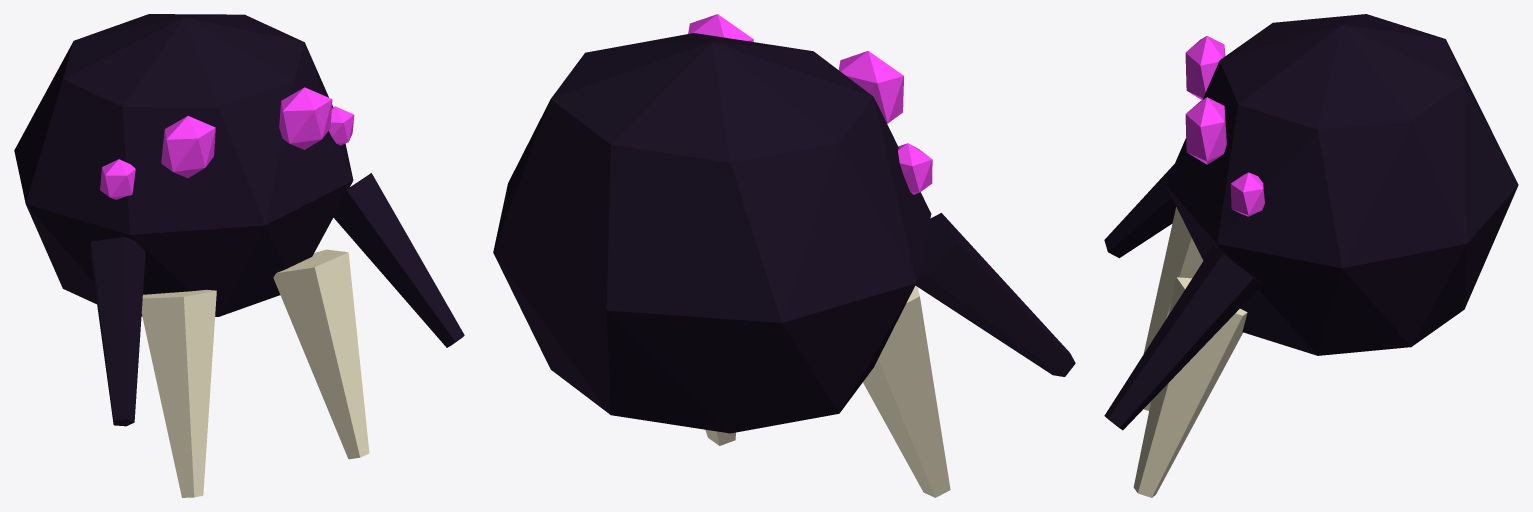
File: spider_4_head.glb
3 views of the same model, side by side, from view 1: azimuth 30°, elevation 25°; view 2: azimuth 150°, elevation 25°; view 3: azimuth 270°, elevation 25° (orthographic). The views are drawn at different scales.
Parts seen in each view (by area): view 1: spider_4_head; view 2: spider_4_head; view 3: spider_4_head.
Boxes of the visible parts, x1,y1,x2,y2 form: spider_4_head: [14, 14, 464, 497]; spider_4_head: [493, 14, 1075, 497]; spider_4_head: [1104, 14, 1518, 497].
Size of the model in its own units: 0.2108 by 0.2271 by 0.1995.
